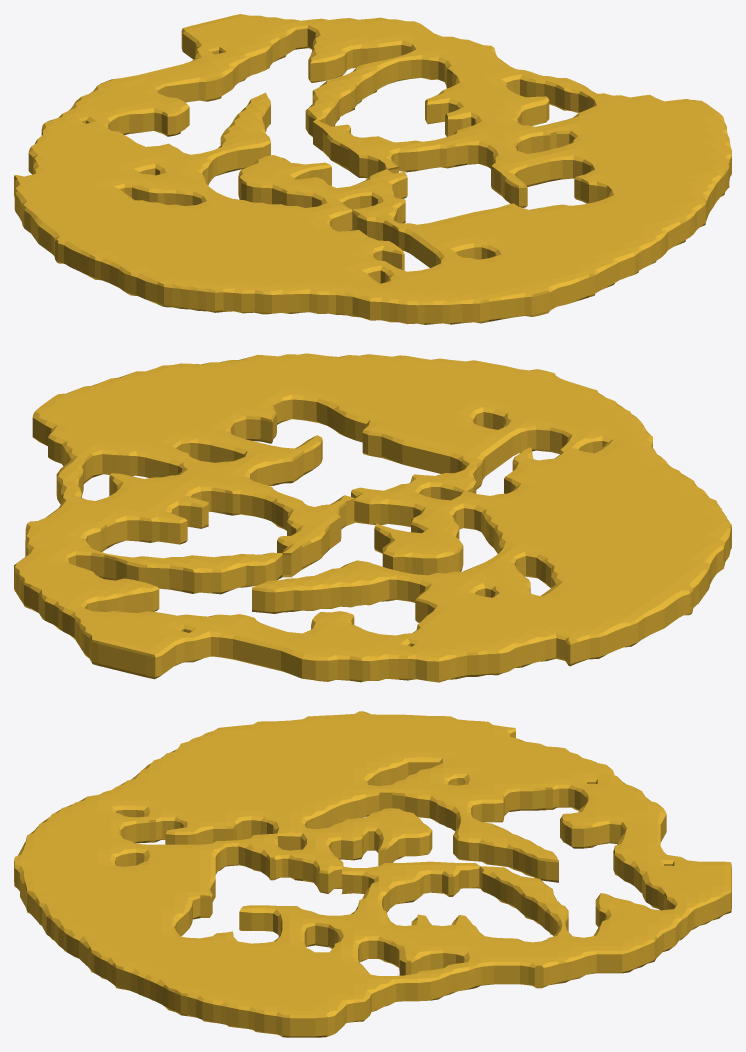
File: Obolone.fbx
The picture shows the model from 3 angles, top to bottom: view 1: azimuth 30°, elevation 25°; view 2: azimuth 150°, elevation 25°; view 3: azimuth 270°, elevation 25°; orthographic projection. The views are drawn at different scales.
Visible parts, largest first — view 1: Plane; view 2: Plane; view 3: Plane.
Boxes of the visible parts, x1=… form: Plane: x1=14, y1=14, x2=731, y2=324; Plane: x1=14, y1=353, x2=731, y2=682; Plane: x1=14, y1=711, x2=731, y2=1037.
Bounding box in the file's own units: 1.9 × 0.0688 × 1.89.
